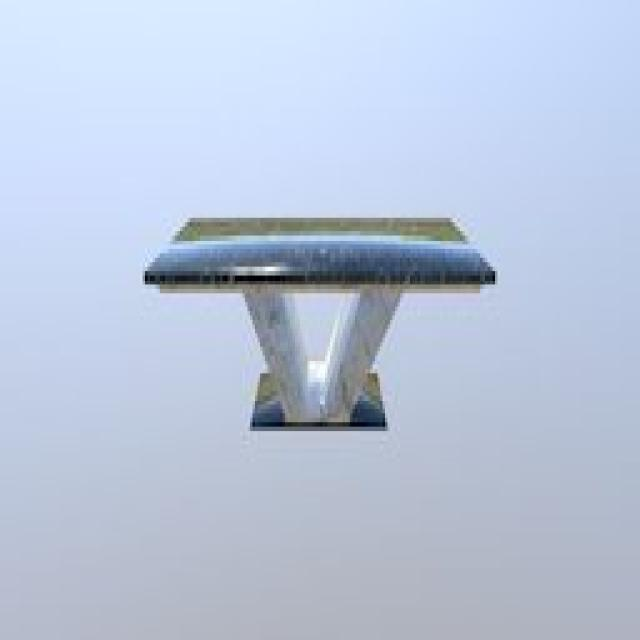table: (142, 212, 499, 434)
